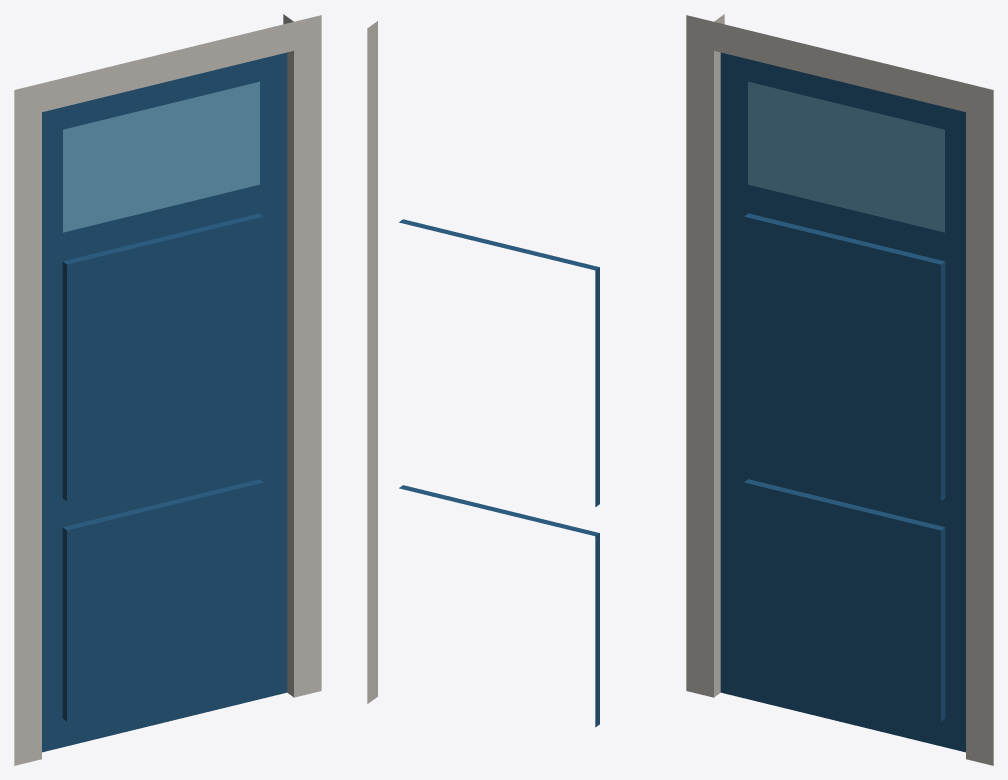
File: door.glb
3 renders of one model, left to right at view 1: azimuth 30°, elevation 25°; view 2: azimuth 150°, elevation 25°; view 3: azimuth 330°, elevation 25°, orthographic.
Size of the model in its own units: 1 by 2.1 by 0.06.
